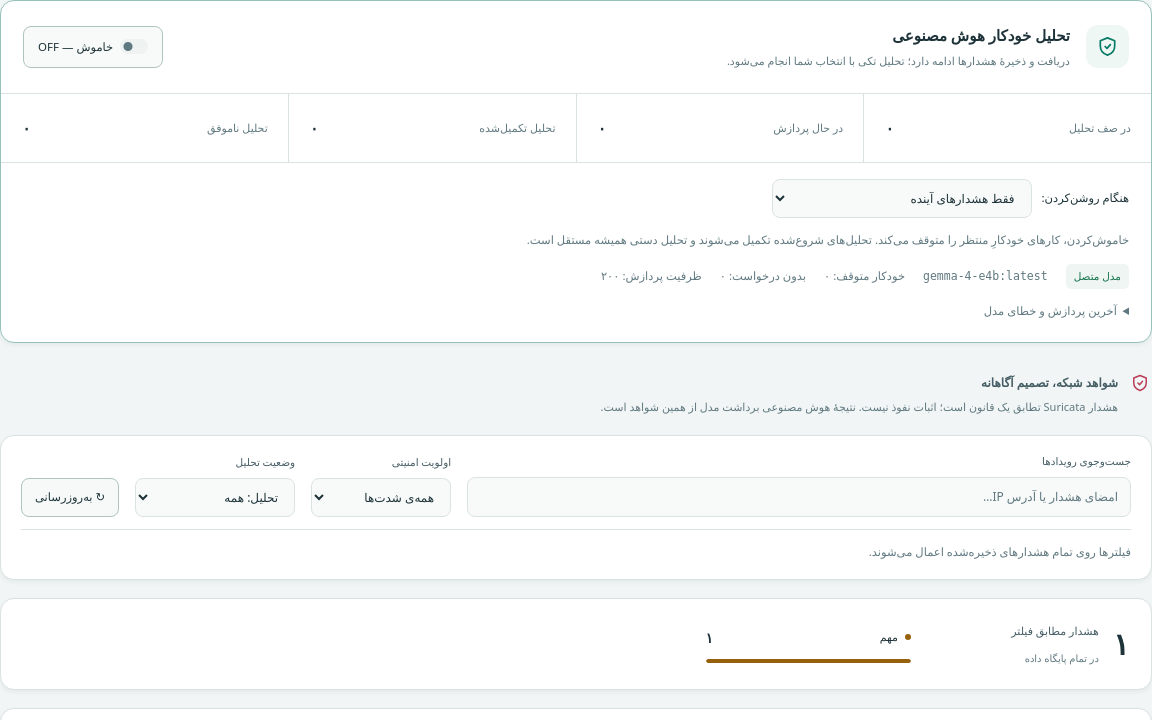
Test: SecurityPage AI analysis › does not show a successful toggle when the API rejects it
Click the switch: [93, 47] box [23, 26, 163, 68]
(page scrolled)
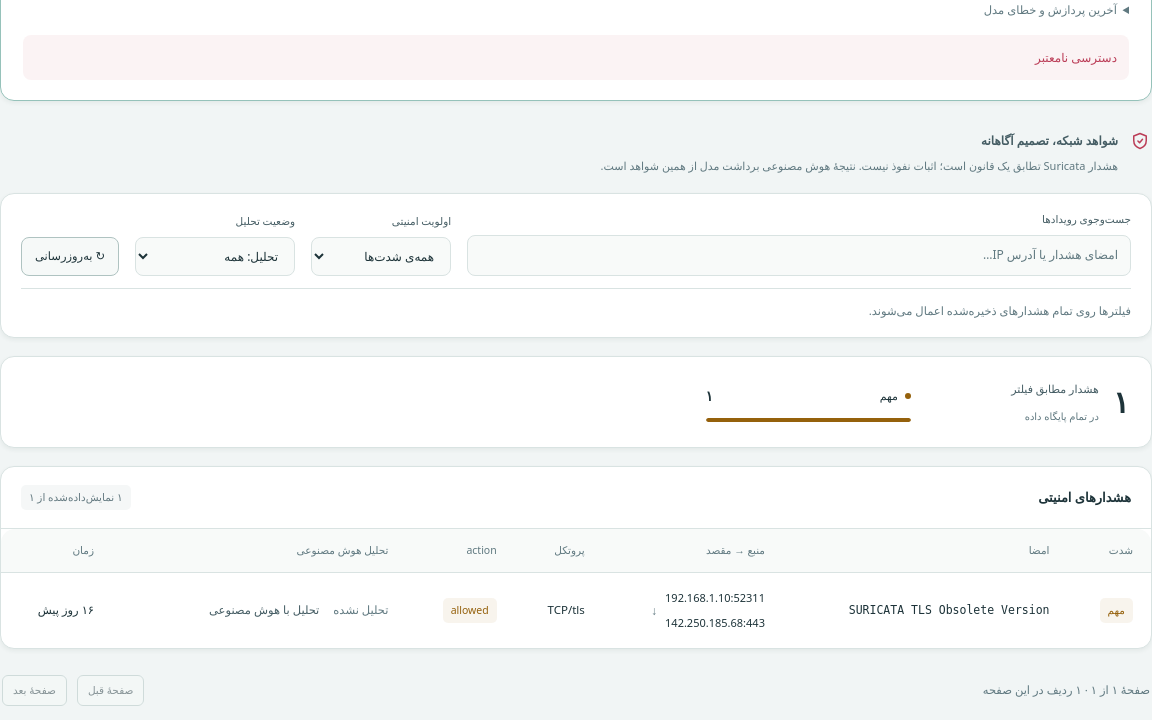
Expected: the text "SURICATA TLS Obsolete Version" is shown, [783, 573, 1068, 648]
Expected: the text "دسترسی نامعتبر" is shown, [1035, 49, 1117, 66]
